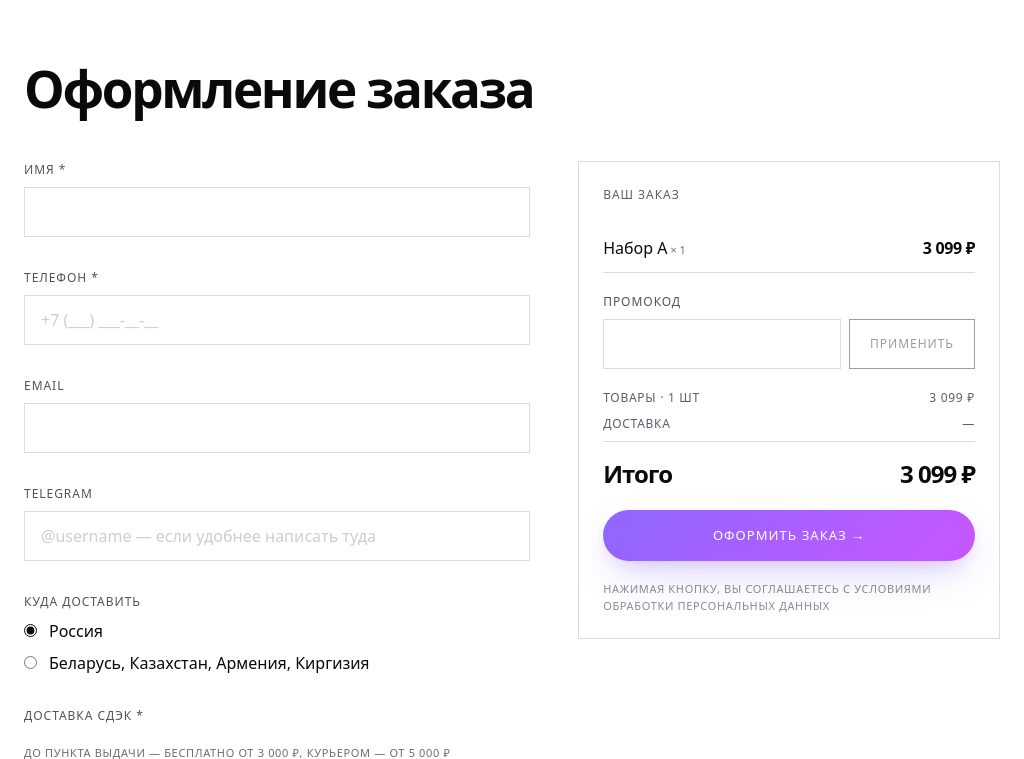
Scenario: /checkout page › промокод › «Убрать» снимает промокод
Type "RENATA2026" into the field labelled "Промокод" at (722, 344), box [603, 319, 841, 369]
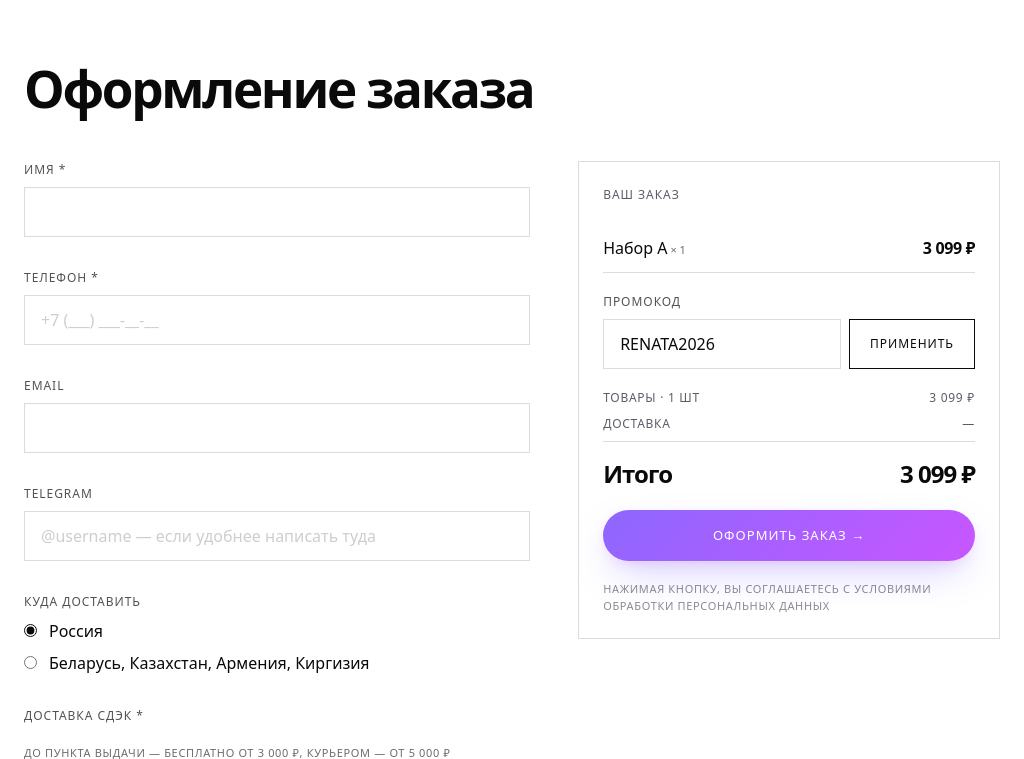
Click the button "Применить" at (912, 344), box [849, 319, 975, 369]
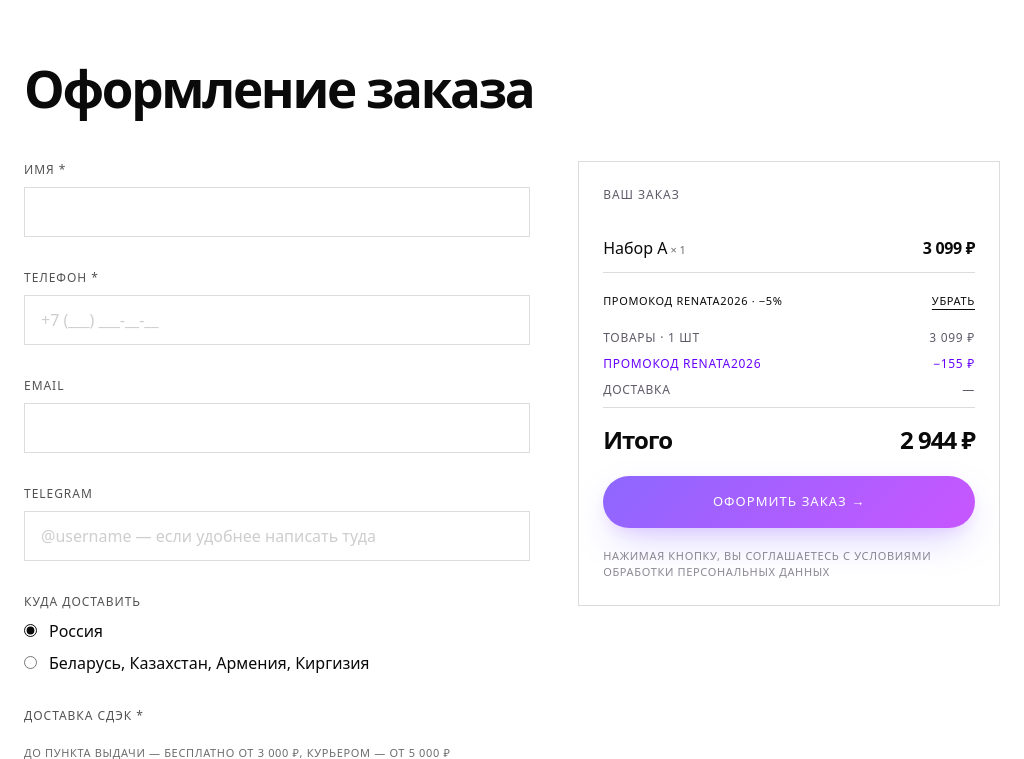
Click the button "Убрать" at (953, 301), box [932, 293, 975, 309]
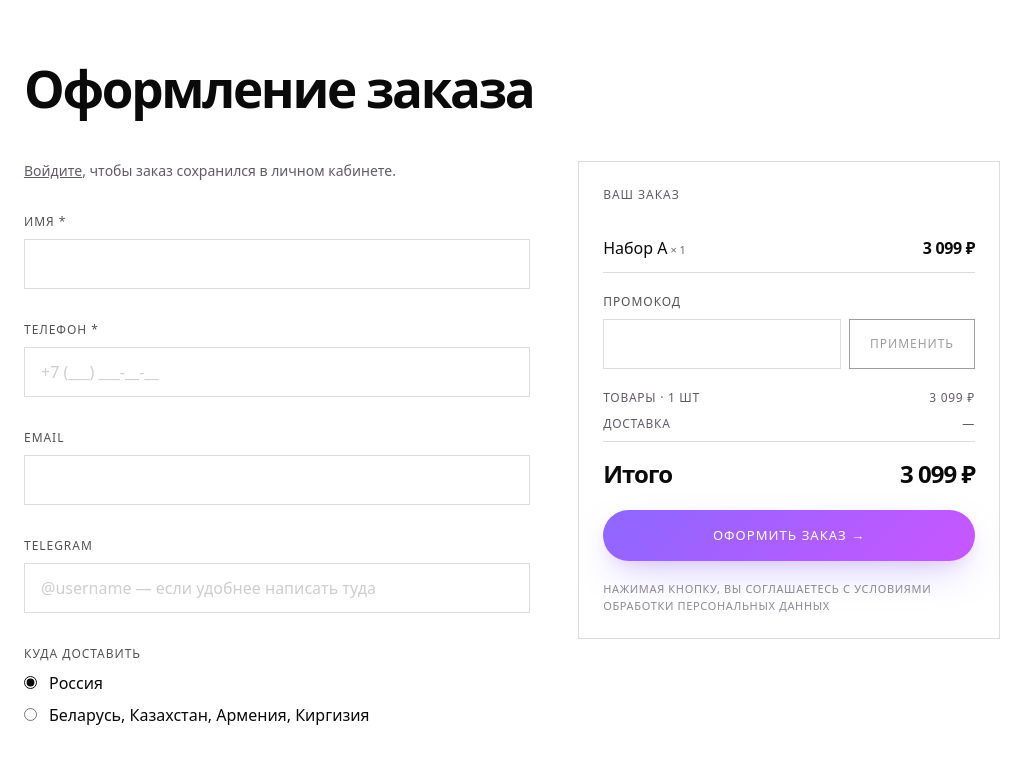
Expected: the element with test id "summary-promo" is gone
Expected: the text with test id "summary-total" shows "3 099", [900, 457, 975, 490]
